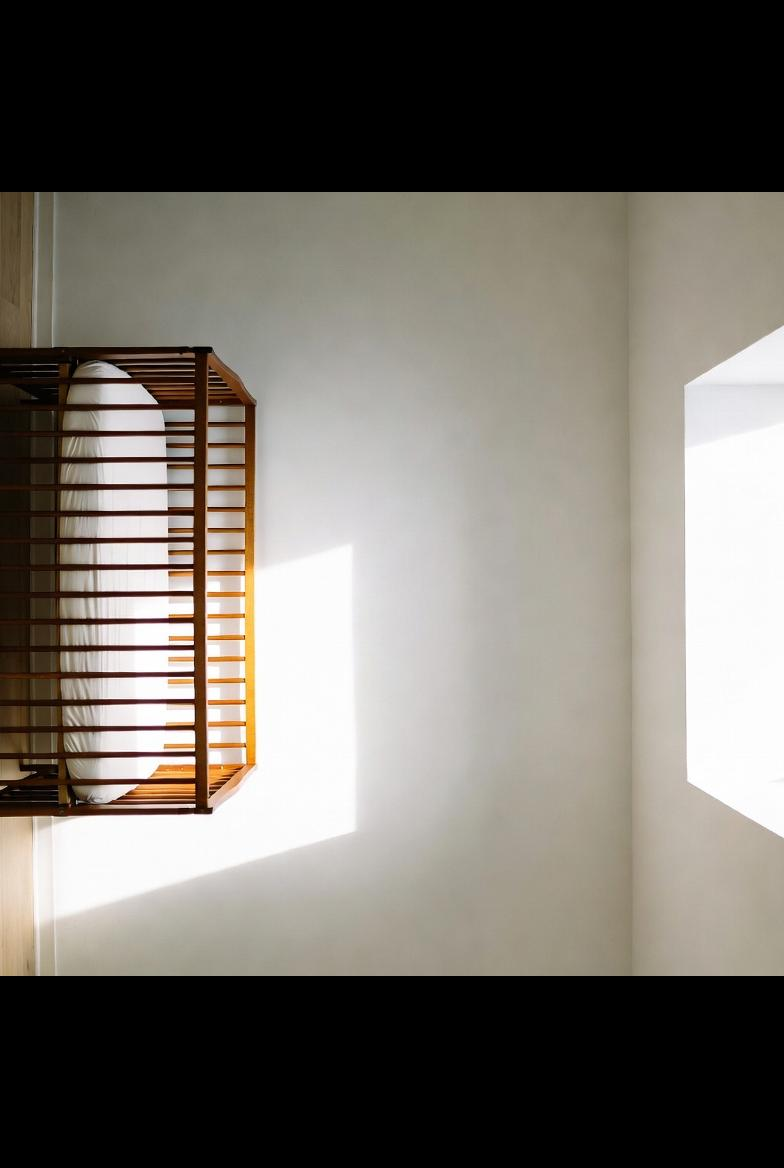crib: (0, 347, 254, 817)
